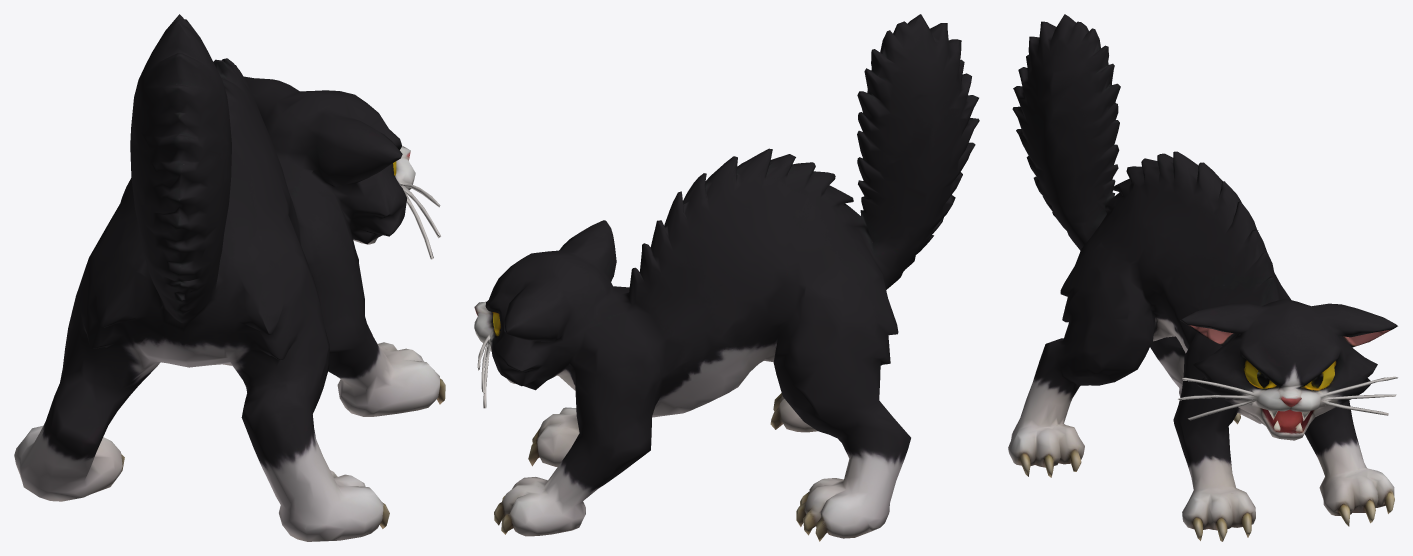
The model's file is small_cat.glb.
The picture shows the model from 3 angles, left to right: view 1: azimuth 30°, elevation 25°; view 2: azimuth 150°, elevation 25°; view 3: azimuth 270°, elevation 25°; orthographic projection. The views are drawn at different scales.
Parts seen in each view (by area): view 1: tripo_node_dadb65a9-55f1-4e2e-85d4-d3bb12fcbdea; view 2: tripo_node_dadb65a9-55f1-4e2e-85d4-d3bb12fcbdea; view 3: tripo_node_dadb65a9-55f1-4e2e-85d4-d3bb12fcbdea.
Part boxes in pixels (box(x1,y1,x2,y2)): tripo_node_dadb65a9-55f1-4e2e-85d4-d3bb12fcbdea: box(14, 14, 445, 541); tripo_node_dadb65a9-55f1-4e2e-85d4-d3bb12fcbdea: box(474, 14, 979, 541); tripo_node_dadb65a9-55f1-4e2e-85d4-d3bb12fcbdea: box(1008, 14, 1397, 541).
Size of the model in its own units: 0.8493 by 1 by 0.8834.
Materials: 1 (1 with a texture image).
